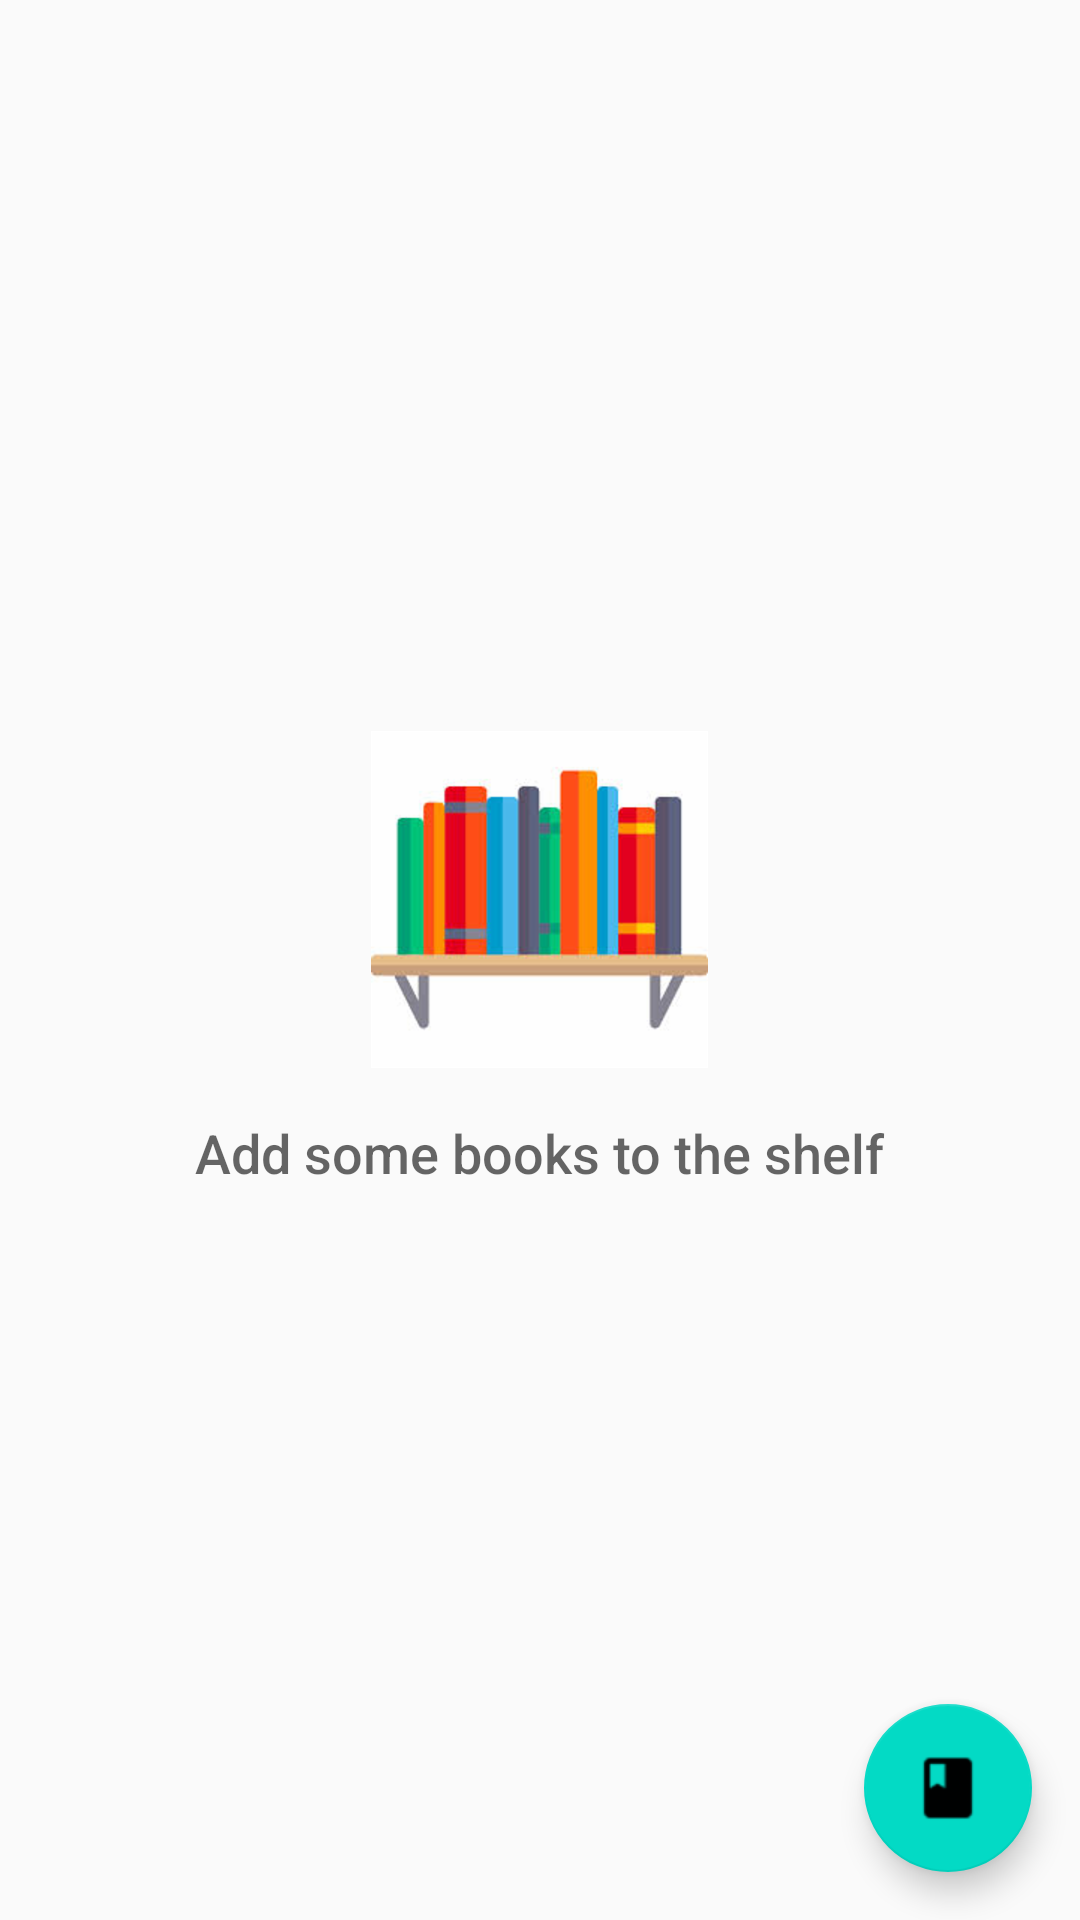

Icons on this 1080*1920 Android screen, each with its box as [x1=x1, y1=y1, x2=x2, y2=y2]:
book: [x1=864, y1=1704, x2=1032, y2=1872]
bookshelf: [x1=371, y1=769, x2=708, y2=1030]
